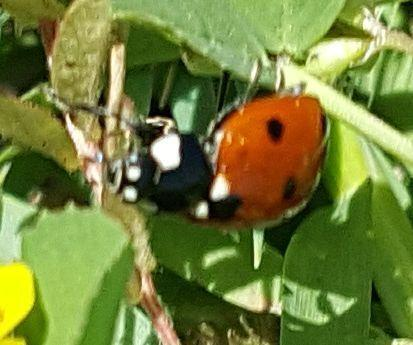ladybug: (68, 57, 332, 231)
